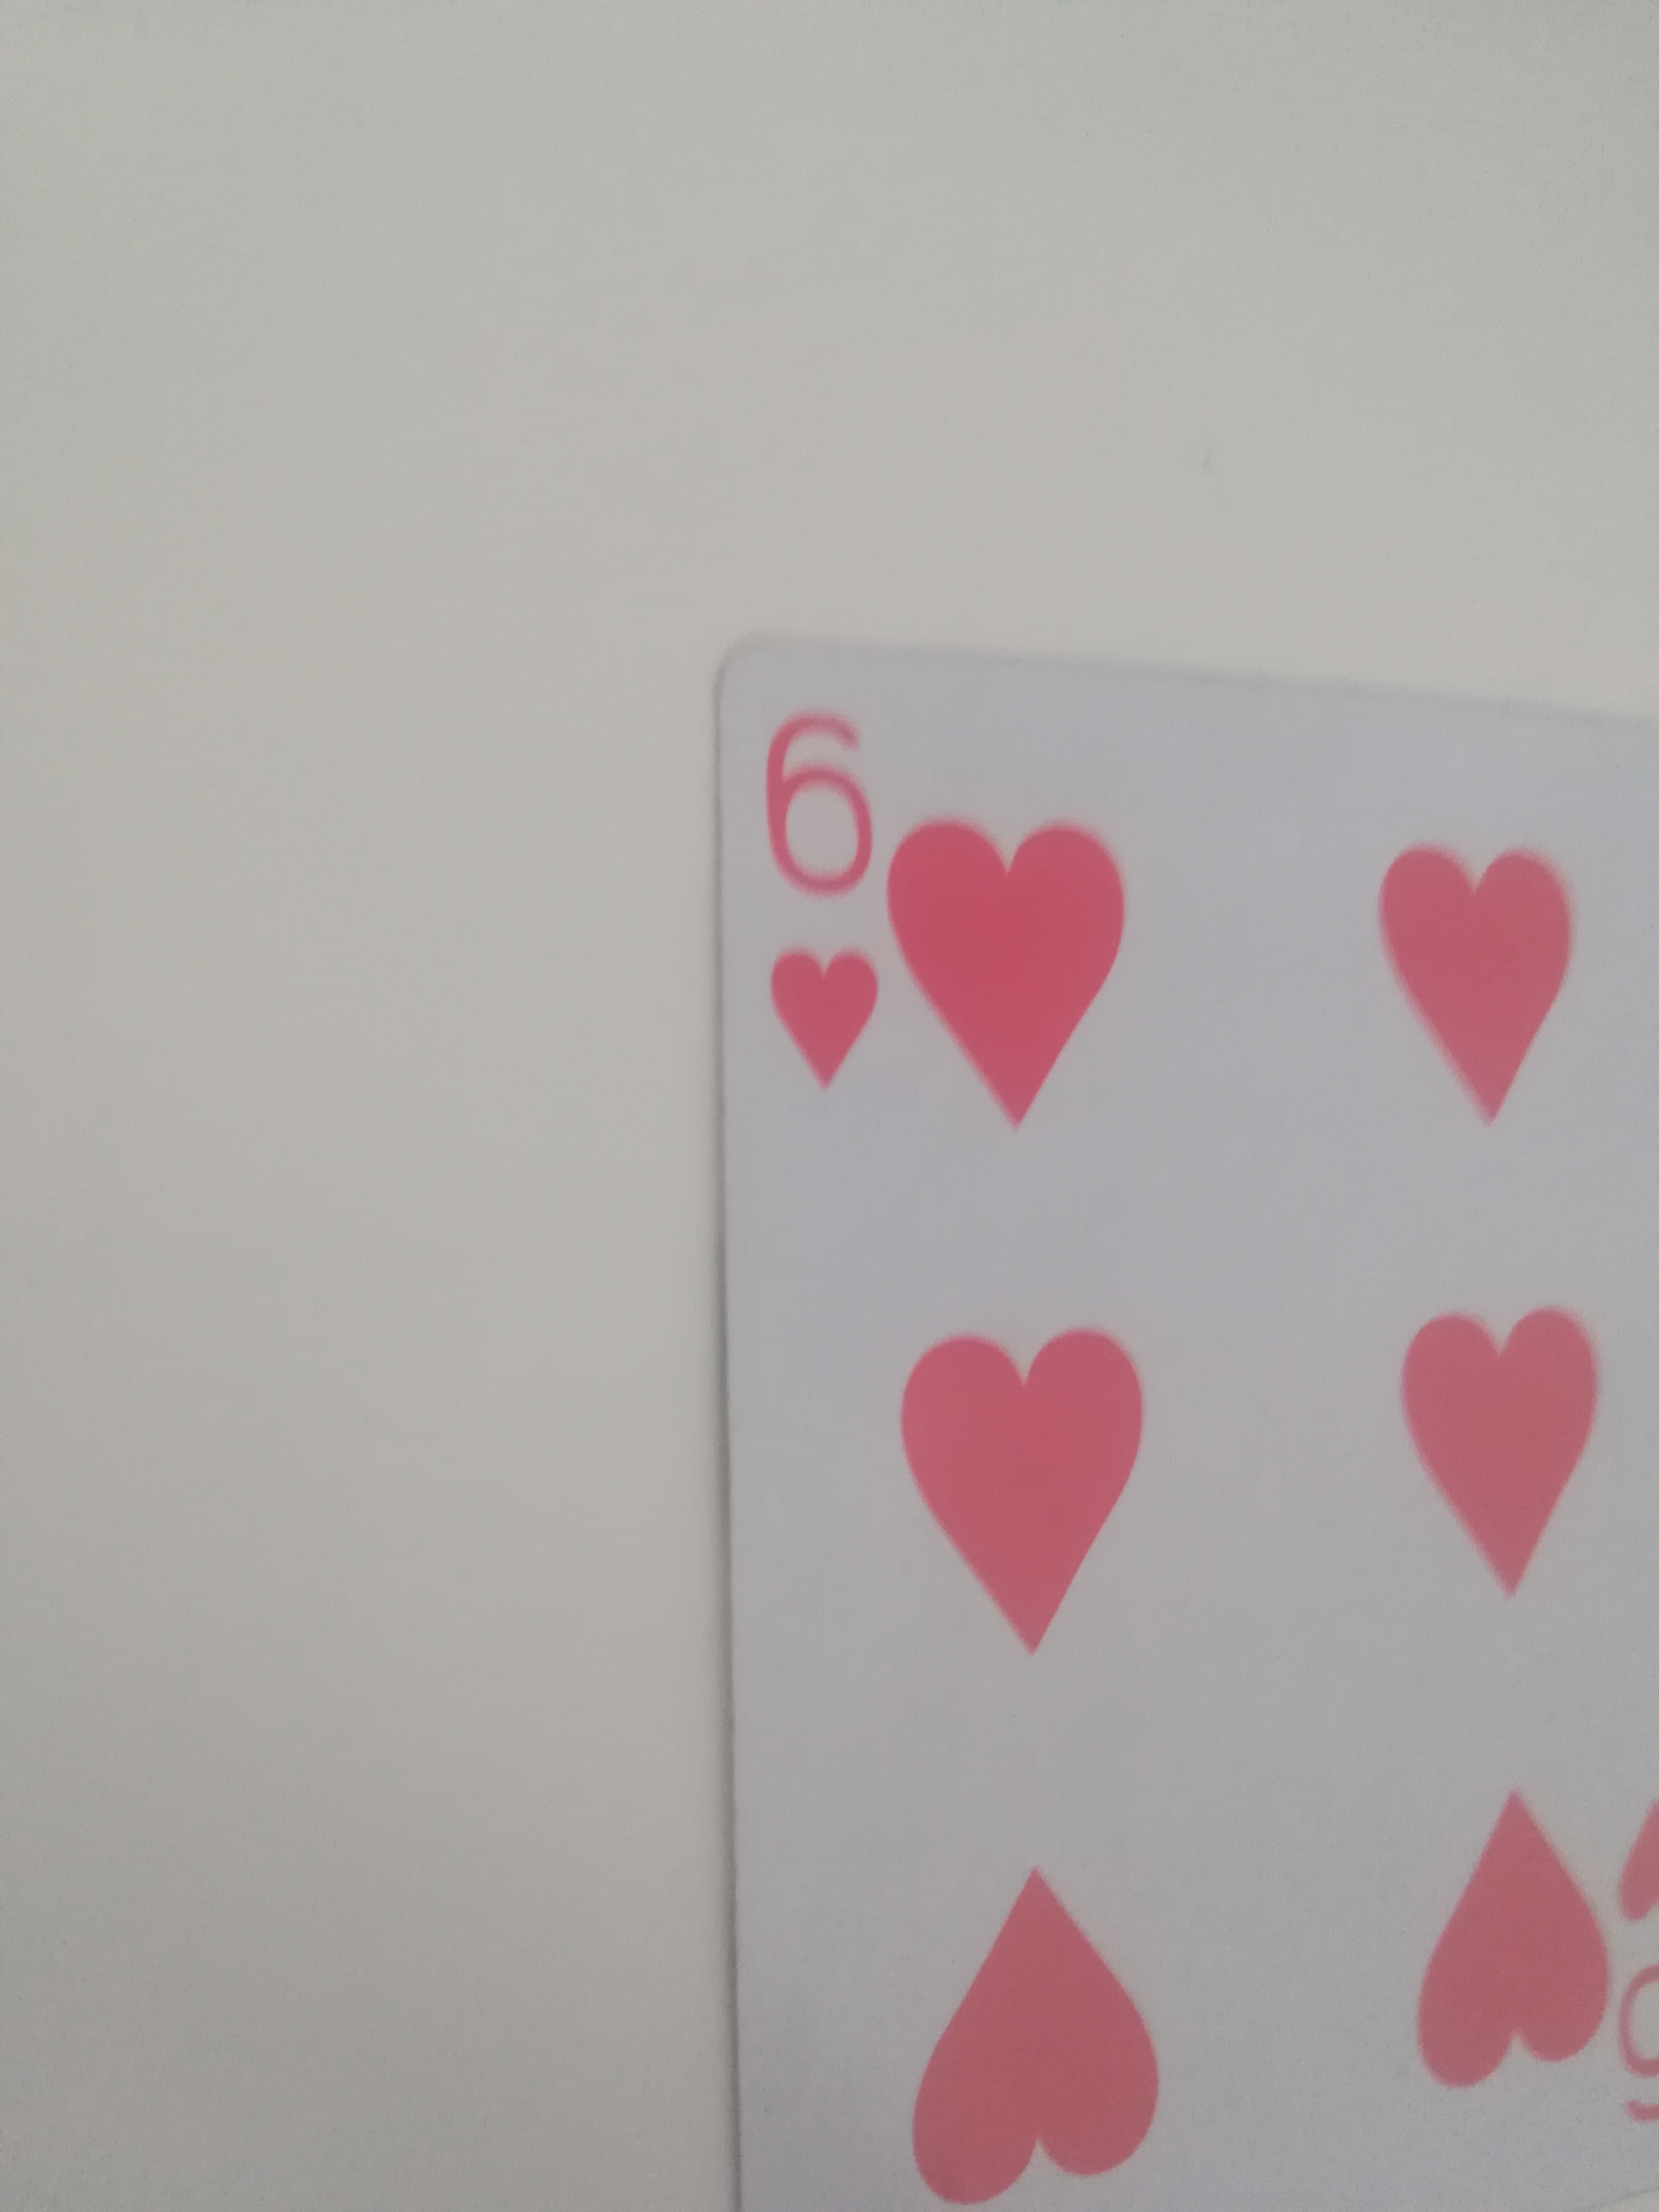6H: (701, 624, 1659, 2196)
